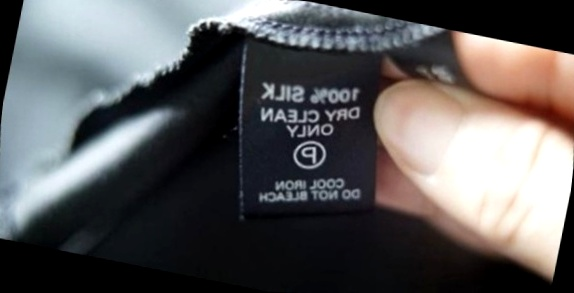dry_clean_any_solvent_except_trichloroethylene: (286, 133, 331, 175)
